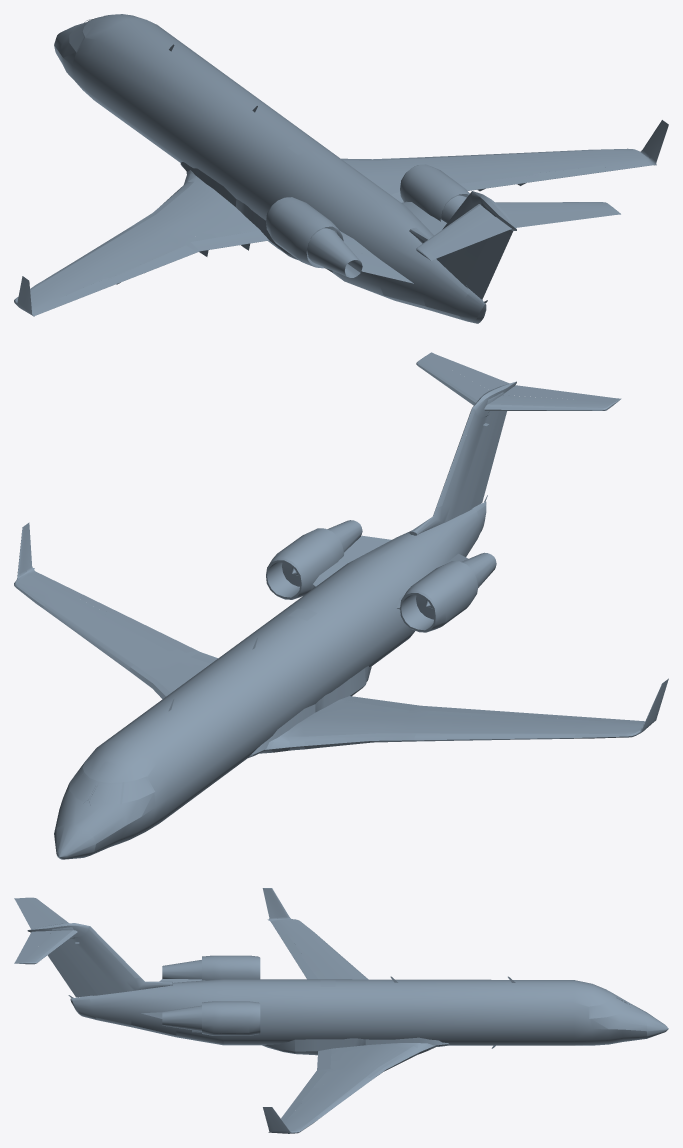
Rendered from CRJ200.glb.
3 renders of one model, top to bottom at view 1: azimuth 30°, elevation 25°; view 2: azimuth 150°, elevation 25°; view 3: azimuth 270°, elevation 25°, orthographic. The views are drawn at different scales.
Bounding box in the file's own units: 22.91 × 6.13 × 28.98.
